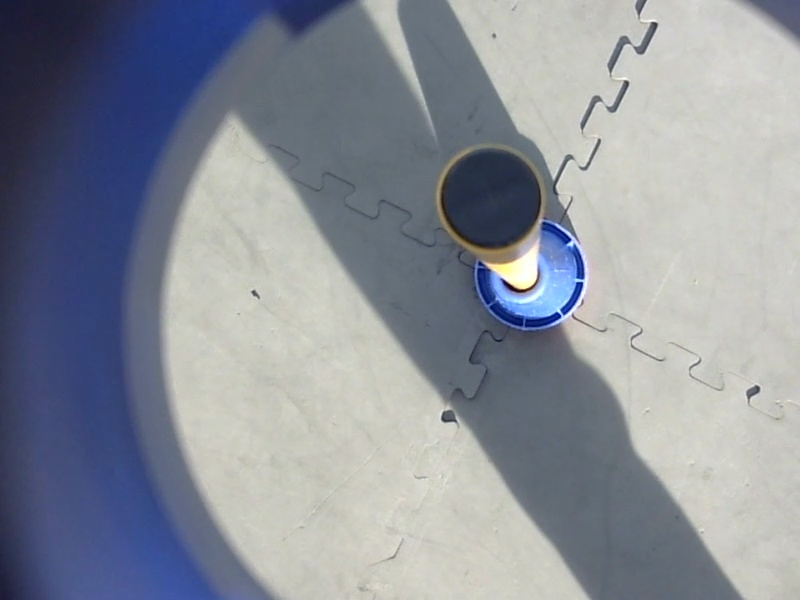tip: (430, 139, 549, 256)
